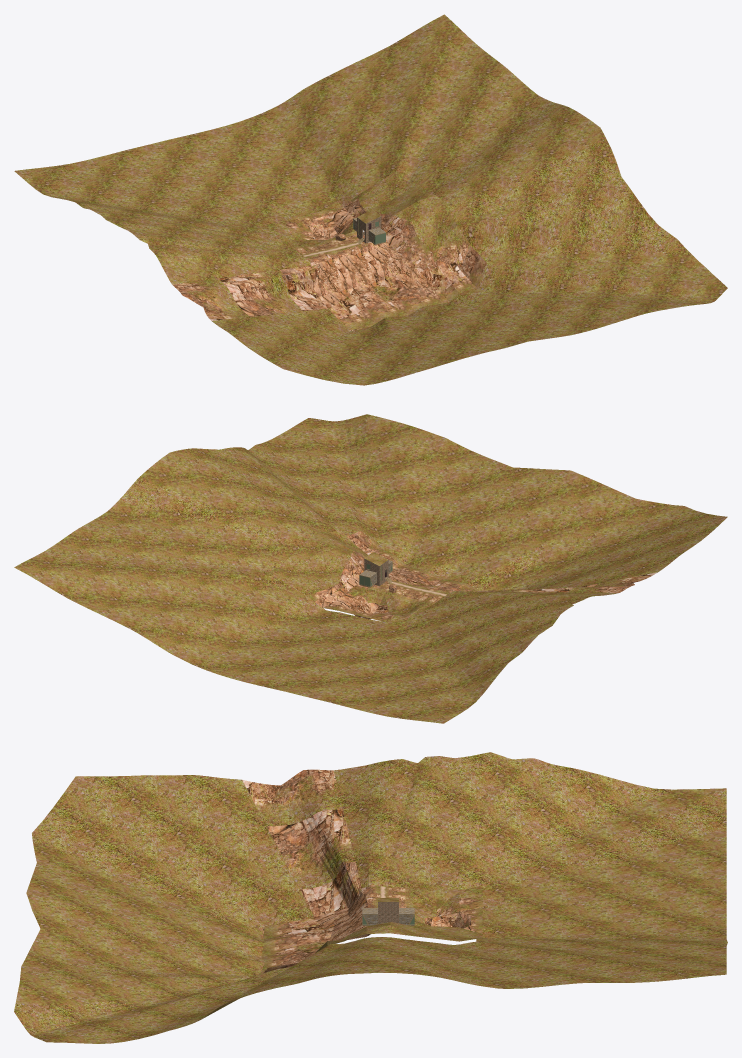
The model's file is wildhouse_action.obj.
The picture shows the model from 3 angles, top to bottom: view 1: azimuth 30°, elevation 25°; view 2: azimuth 150°, elevation 25°; view 3: azimuth 270°, elevation 25°; orthographic projection. The views are drawn at different scales.
Size of the model in its own units: 304 by 69.23 by 362.
